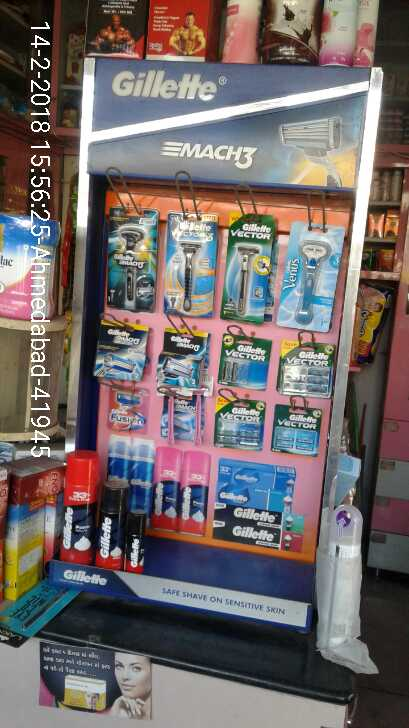gillette: (220, 214, 270, 328), (281, 226, 334, 331), (161, 214, 213, 317), (59, 447, 103, 568), (107, 207, 156, 314), (88, 324, 152, 384), (277, 334, 337, 397), (218, 330, 263, 388), (161, 334, 207, 389), (269, 404, 319, 453), (99, 484, 123, 568), (219, 406, 261, 447), (125, 507, 149, 576)
